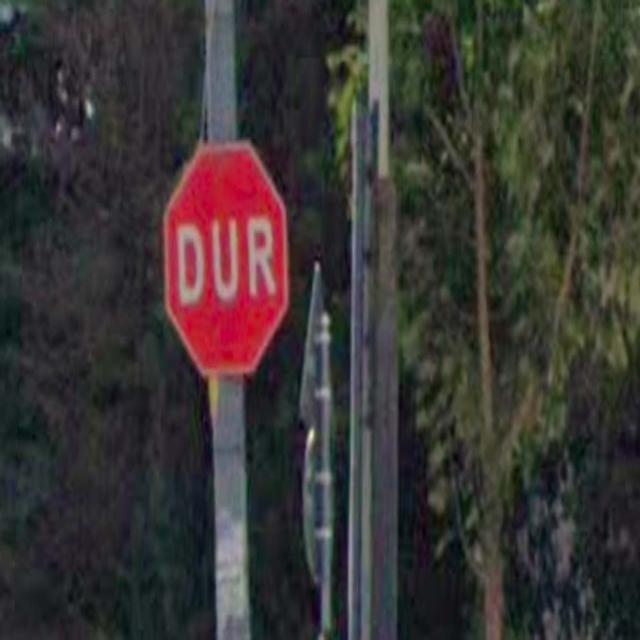dur: (163, 141, 290, 375)
